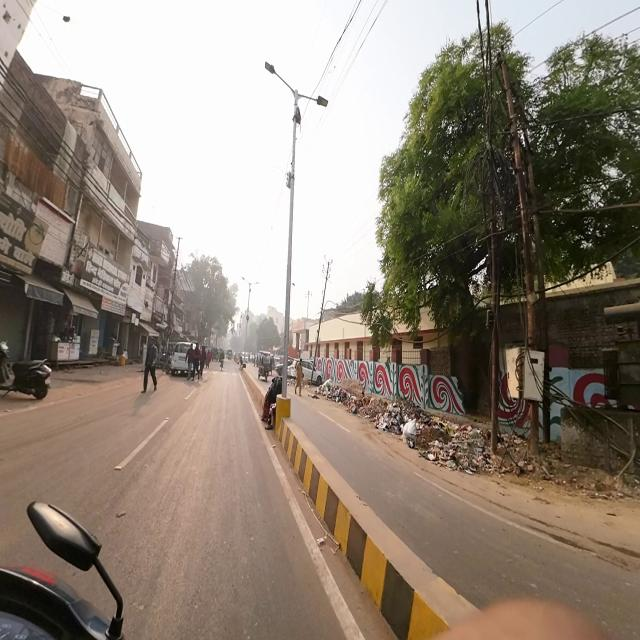Garbage: (407, 413, 487, 475), (358, 396, 403, 434), (321, 380, 358, 408)
